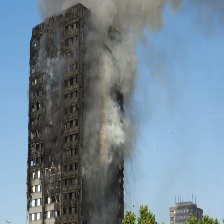smoke: (37, 1, 182, 180)
